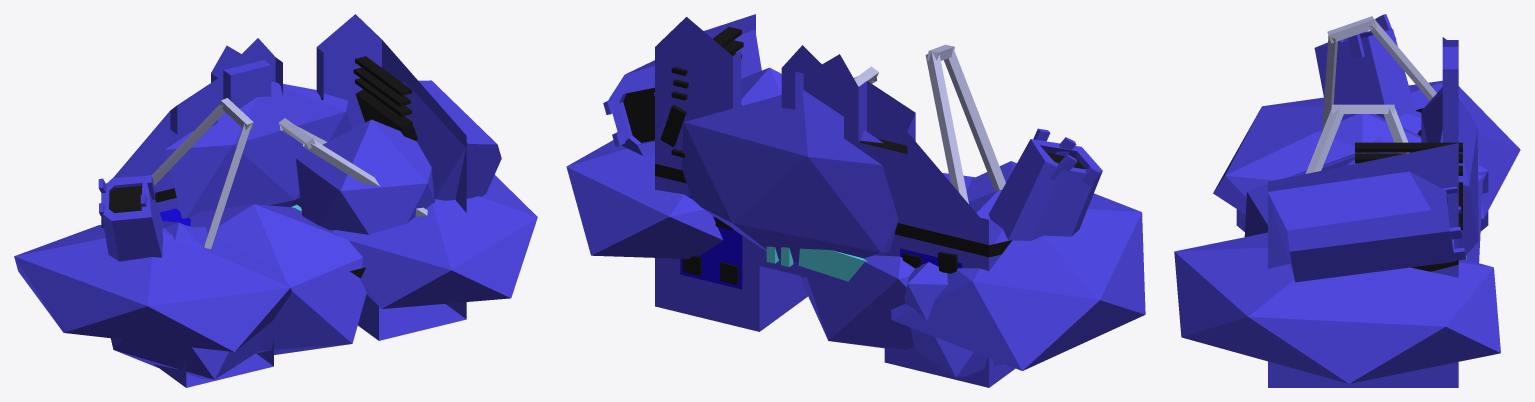
The model's file is boss-destroyed.glb.
3 renders of one model, left to right at view 1: azimuth 30°, elevation 25°; view 2: azimuth 150°, elevation 25°; view 3: azimuth 270°, elevation 25°, orthographic. The views are drawn at different scales.
Visible parts, largest first — view 1: boss2; view 2: boss2; view 3: boss2.
Boxes of the visible parts, x1=… form: boss2: x1=14, y1=14, x2=537, y2=387; boss2: x1=566, y1=14, x2=1145, y2=387; boss2: x1=1174, y1=14, x2=1520, y2=387.
Bounding box in the file's own units: 6.28 × 3.61 × 3.63.
